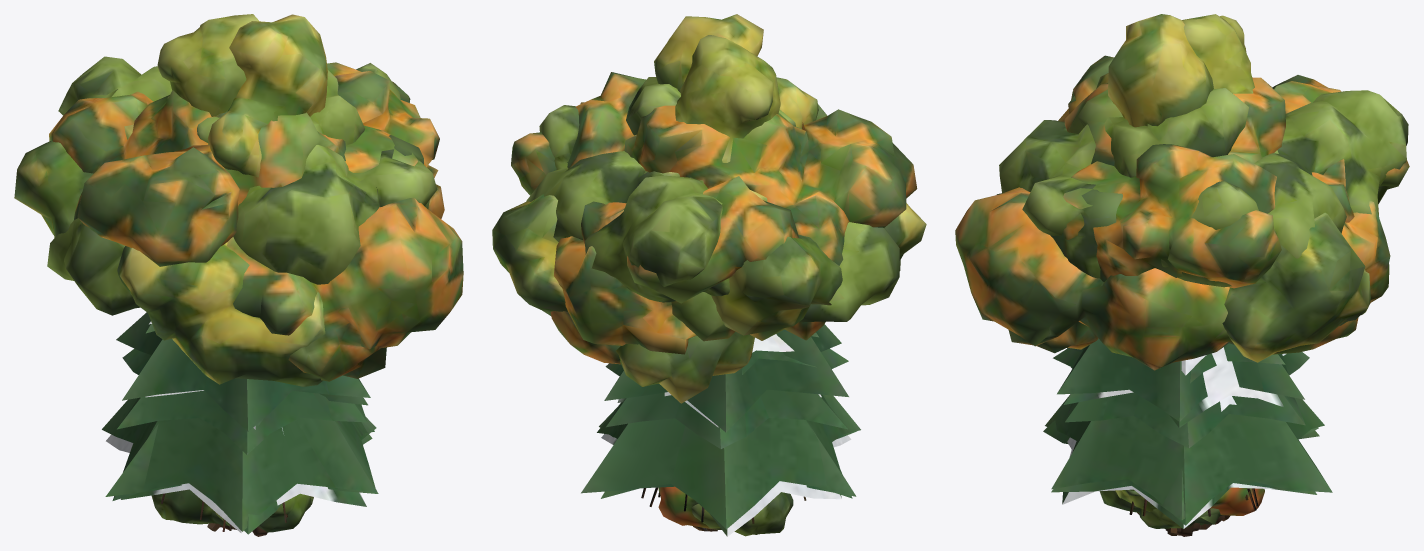
File: env-flora.glb
3 views of the same model, side by side, from view 1: azimuth 30°, elevation 25°; view 2: azimuth 150°, elevation 25°; view 3: azimuth 270°, elevation 25° (orthographic). The views are drawn at different scales.
Visible parts, largest first — view 1: oak-a, oak-b, oak-green-a, fir-a, oak-green-b, birch-a, fir-b, birch-b, fir-snow-a, brush-d, brush-a; view 2: oak-a, oak-green-a, fir-a, oak-green-b, birch-b, fir-b, birch-a, oak-b, fir-snow-a, brush-d, brush-b; view 3: oak-green-a, oak-b, oak-a, fir-a, oak-green-b, fir-b, birch-a, fir-snow-a, birch-b, brush-b, brush-d.
Boxes of the visible parts, x1,y1,x2,y2 form: oak-a: (49,62,439,536); oak-b: (224,112,463,381); oak-green-a: (47,56,437,529); fir-a: (102,312,376,531); oak-green-b: (14,124,325,386); birch-a: (207,14,327,177); fir-b: (105,348,378,534); birch-b: (157,14,258,116); fir-snow-a: (106,321,372,533); brush-d: (151,489,313,524); brush-a: (258,493,311,532); oak-a: (511,72,917,354); oak-green-a: (526,77,899,322); fir-a: (581,324,860,529); oak-green-b: (492,171,926,531); birch-b: (675,35,780,162); fir-b: (599,348,856,531); birch-a: (654,14,818,128); oak-b: (550,201,825,364); fir-snow-a: (601,392,851,536); brush-d: (691,492,793,536); brush-b: (658,486,721,529); oak-green-a: (999,88,1408,531); oak-b: (955,83,1358,531); oak-a: (1050,55,1409,535); fir-a: (1045,338,1332,535); oak-green-b: (1178,150,1370,536); fir-b: (1043,343,1318,520); birch-a: (1096,14,1213,127); fir-snow-a: (1062,347,1319,528); birch-b: (1182,14,1254,93); brush-b: (1210,487,1264,515); brush-d: (1139,508,1194,528).
Bounding box in the file's own units: 2.85 × 3.71 × 3.03.
1 material, 1 textured.
